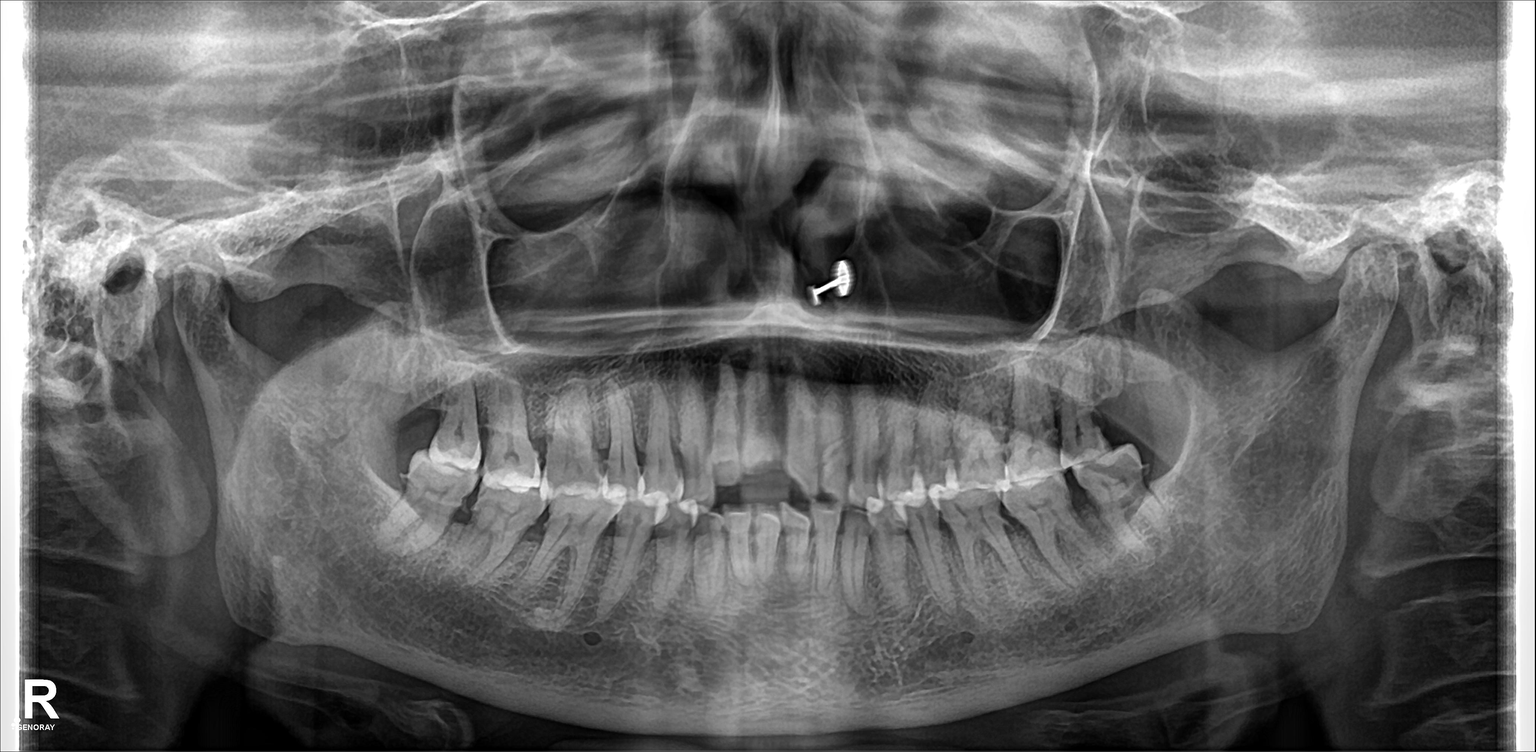Dental Caries: (1056, 467, 1097, 523), (454, 477, 489, 523), (996, 503, 1026, 544)
Impacted Third Molar: (1086, 452, 1156, 542)
Missing Tooth: (384, 356, 438, 447), (1095, 356, 1147, 447)
Tooth Fracture: (700, 441, 745, 486), (741, 428, 778, 480)
